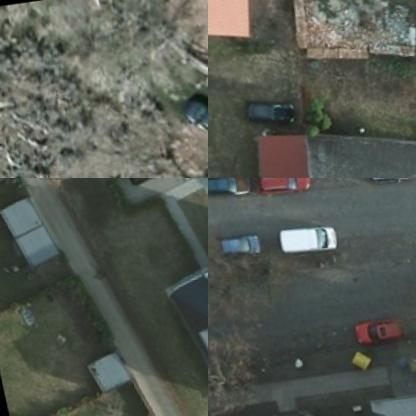car: (345, 308, 406, 346), (241, 92, 296, 128), (178, 90, 207, 155), (214, 224, 262, 256), (255, 178, 313, 196), (208, 178, 253, 200)
van: (274, 218, 337, 254)
